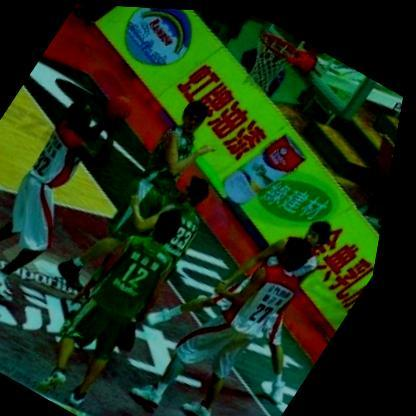basketball: (99, 85, 144, 125)
